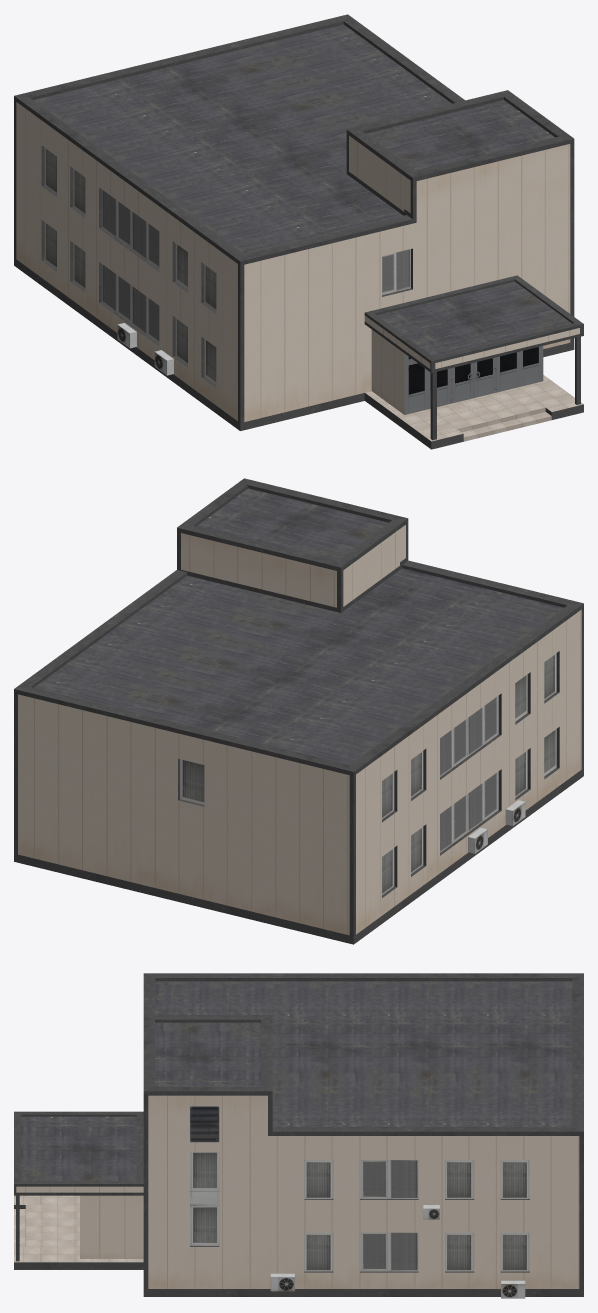
File: plant-building19.glb
3 renders of one model, top to bottom at view 1: azimuth 30°, elevation 25°; view 2: azimuth 150°, elevation 25°; view 3: azimuth 270°, elevation 25°, orthographic. The views are drawn at different scales.
Visible parts, largest first — view 1: Object8934944; view 2: Object8934944; view 3: Object8934944.
Part boxes in pixels (x1,y1,x2,y2): Object8934944: (14,14,583,449); Object8934944: (14,478,583,944); Object8934944: (14,973,583,1298).
Size of the model in its own units: 17.24 by 9.95 by 25.01.
1 material, 1 textured.
